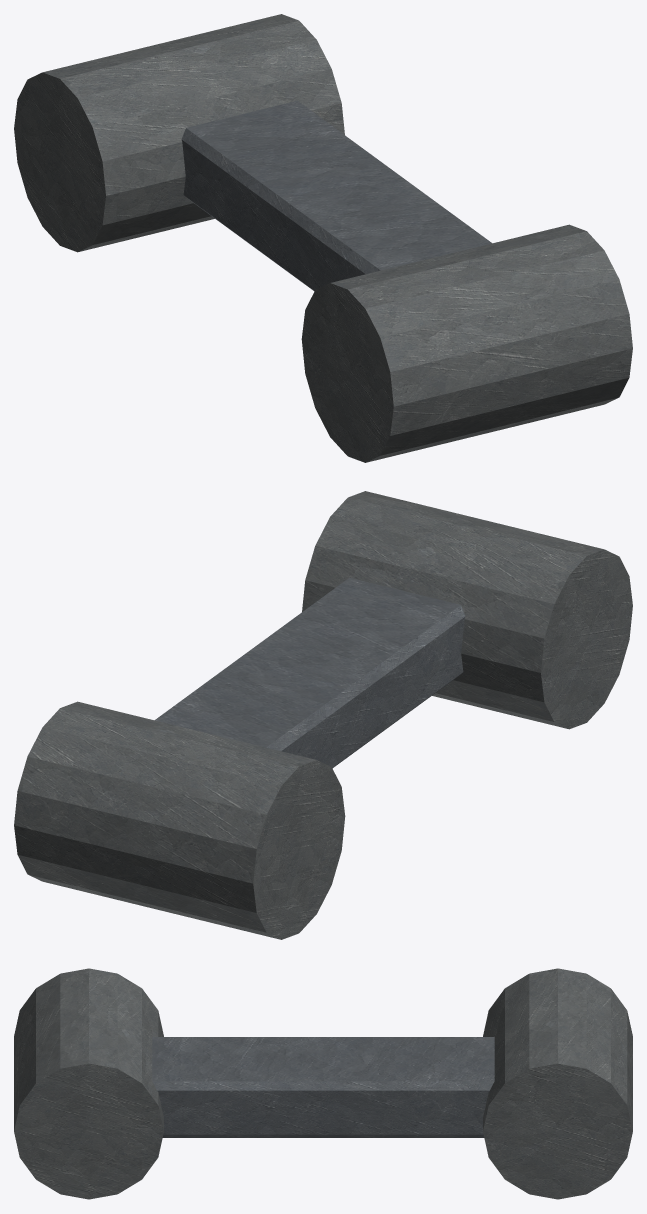
Rendered from train_connecting_rod_long.gltf.
3 views of the same model, one above another, from view 1: azimuth 30°, elevation 25°; view 2: azimuth 150°, elevation 25°; view 3: azimuth 270°, elevation 25° (orthographic). The views are drawn at different scales.
Size of the model in its own units: 0.36 by 0.24 by 0.99.
2 materials, 2 textured.
